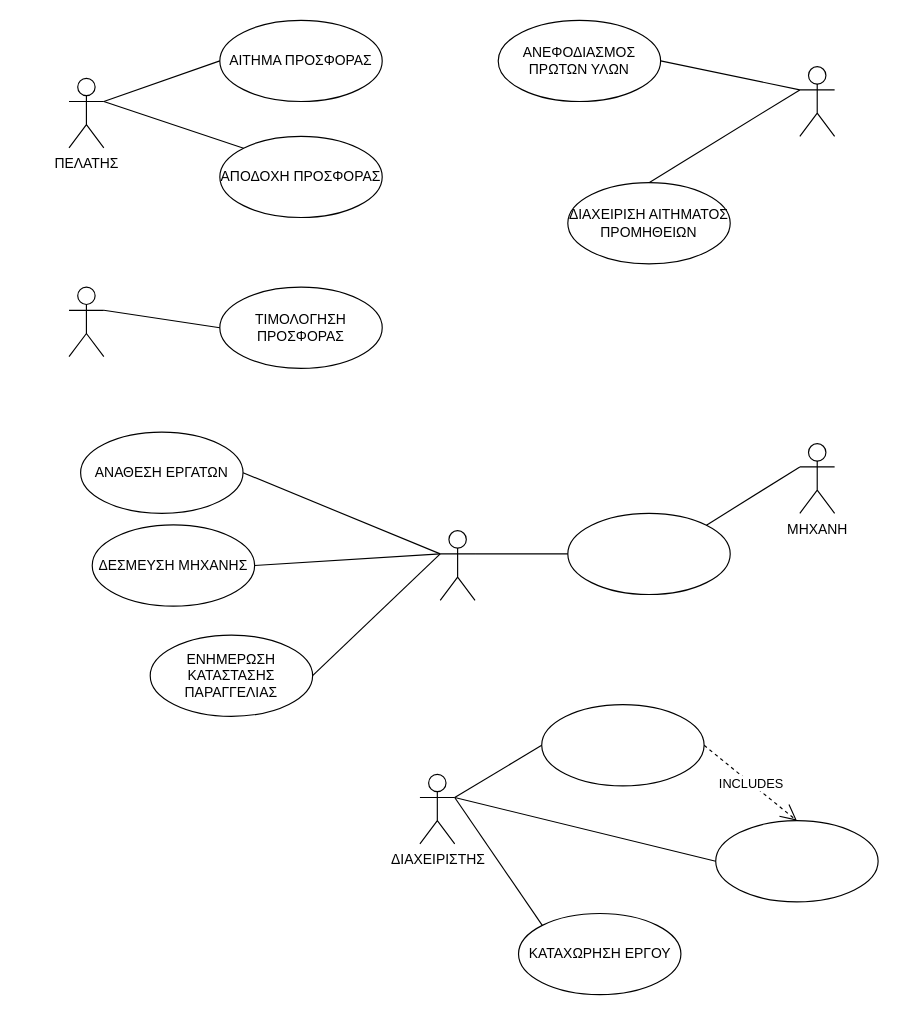
The diagram is 912 pixels wide and 1015 high, and some of its shapes have lost their labels. The shapes that lost their labels are listed below. From the top down, each one's centre as x and y in pixels, then its label:
(x=817, y=101): ΤΜΗΜΑ ΠΡΟΜΗΘΕΙΩΝ
(x=86, y=321): ΤΜΗΜΑ ΠΩΛΗΣΕΩΝ
(x=457, y=565): ΤΜΗΜΑ ΠΑΡΑΓΩΓΗΣ
(x=648, y=553): ΕΠΙΔΙΟΡΘΩΣΗ ΕΛΛΑΤΩΜΑΤΙΚΗΣ ΜΗΧΑΝΗΣ
(x=622, y=745): ΔΗΜΙΟΥΡΓΙΑ ΝΕΟΥ ΠΡΟΪΟΝΤΟΣ
(x=796, y=861): ΕΠΕΞΕΡΓΑΣΙΑ ΛΙΣΤΑΣ ΥΛΙΚΩΝ ΠΡΟΪΟΝΤΟΣ
